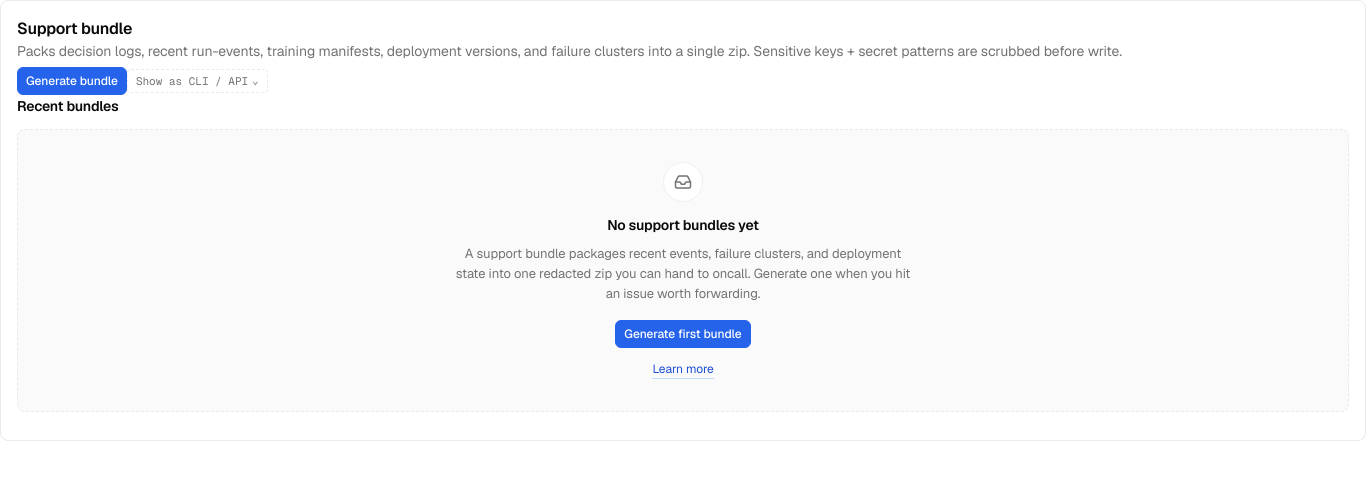
SupportBundleCard › surfaces error when create fails
The image size is (1366, 479).
Expected: the heading "No support bundles yet" is shown, [607, 214, 759, 236]
Step 1. Click the button "Generate bundle" → x=72, y=81, box [17, 67, 127, 95]
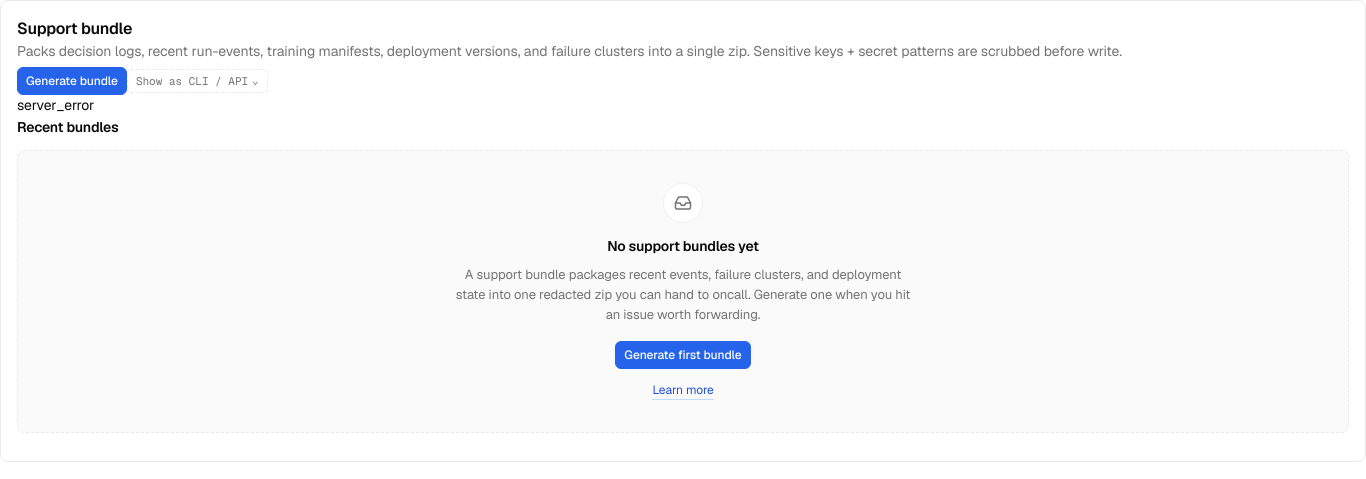
Expected: the message "server_error" is shown, [17, 96, 94, 114]
